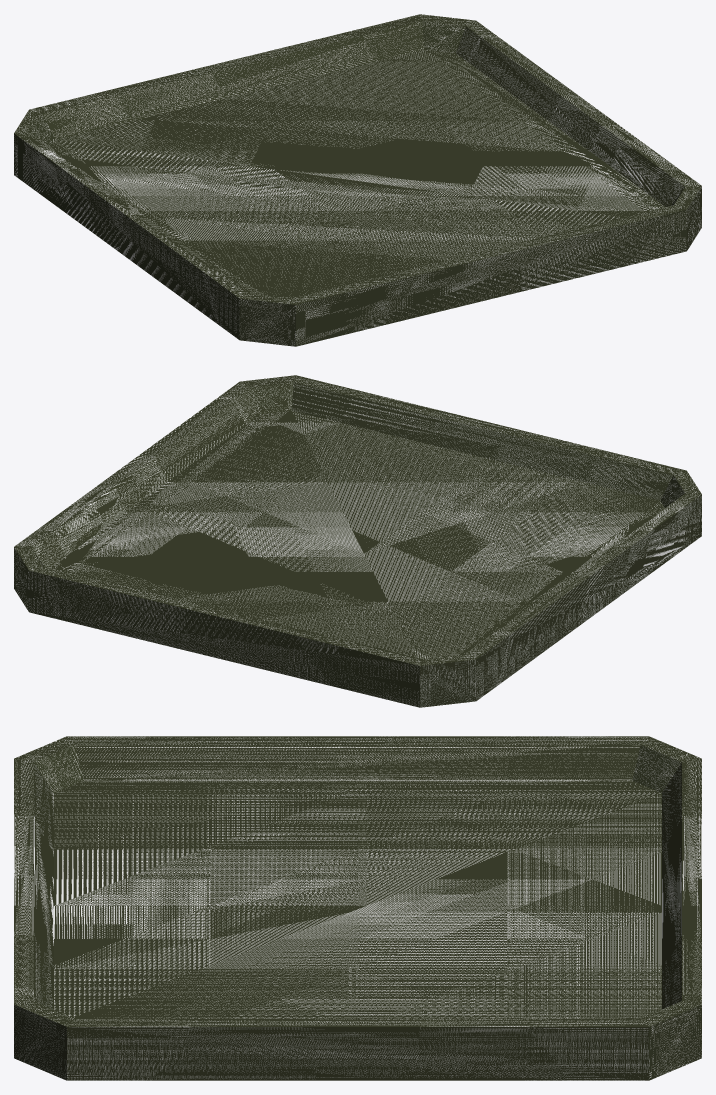
The model's file is era.obj.
3 renders of one model, top to bottom at view 1: azimuth 30°, elevation 25°; view 2: azimuth 150°, elevation 25°; view 3: azimuth 270°, elevation 25°, orthographic. The views are drawn at different scales.
Parts seen in each view (by area): view 1: Button.001_ID13, Button_ID3; view 2: Button.001_ID13, Button_ID3; view 3: Button.001_ID13, Button_ID3.
Boxes of the visible parts, box(x1,y1,x2,y2) form: Button.001_ID13: box(31, 21, 684, 297); Button_ID3: box(14, 14, 701, 346); Button.001_ID13: box(31, 382, 684, 658); Button_ID3: box(14, 375, 701, 707); Button.001_ID13: box(34, 744, 681, 1018); Button_ID3: box(14, 736, 701, 1080).
Bounding box in the file's own units: 1 × 0.0864 × 1.
